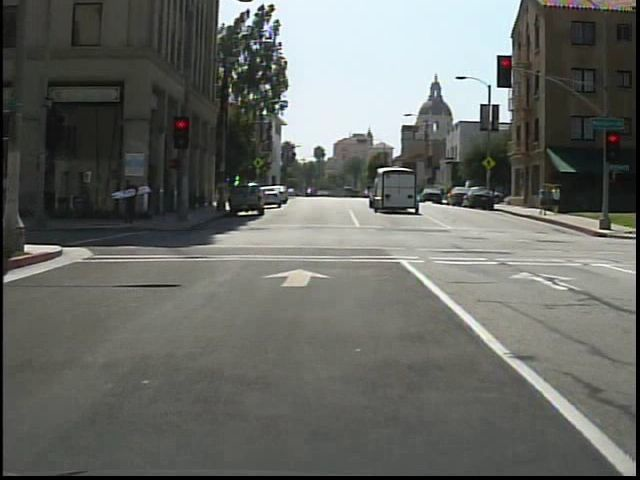person: (123, 179, 142, 224), (548, 183, 565, 216), (538, 184, 553, 218)
